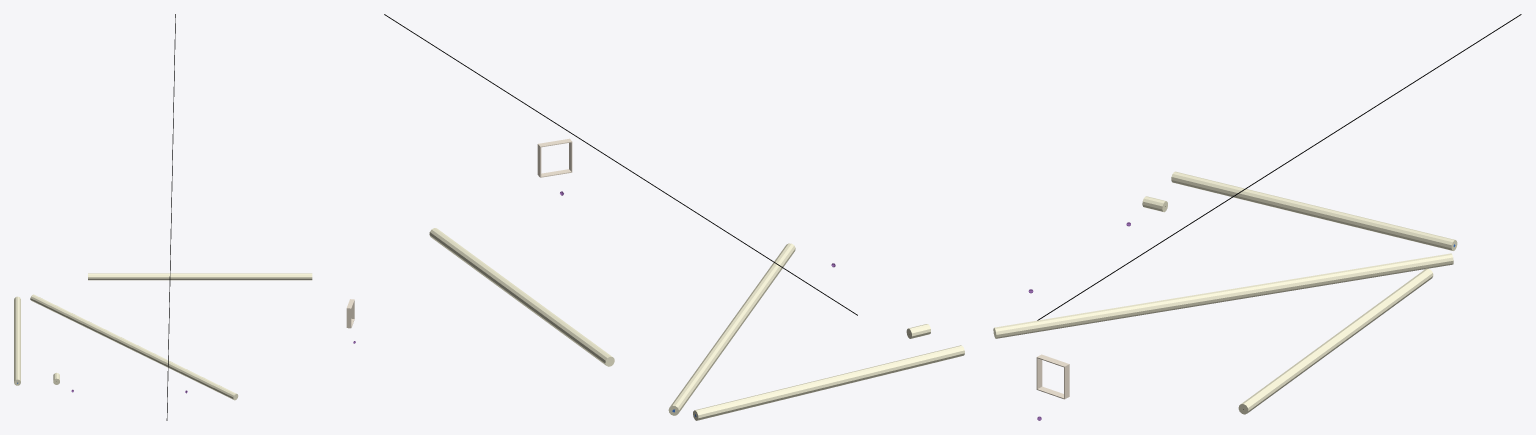
Rendered from tile_228.glb.
The picture shows the model from 3 angles, left to right: view 1: azimuth 30°, elevation 25°; view 2: azimuth 150°, elevation 25°; view 3: azimuth 270°, elevation 25°; orthographic projection. The views are drawn at different scales.
Size of the model in its own units: 13.17 by 10.3 by 11.42.
